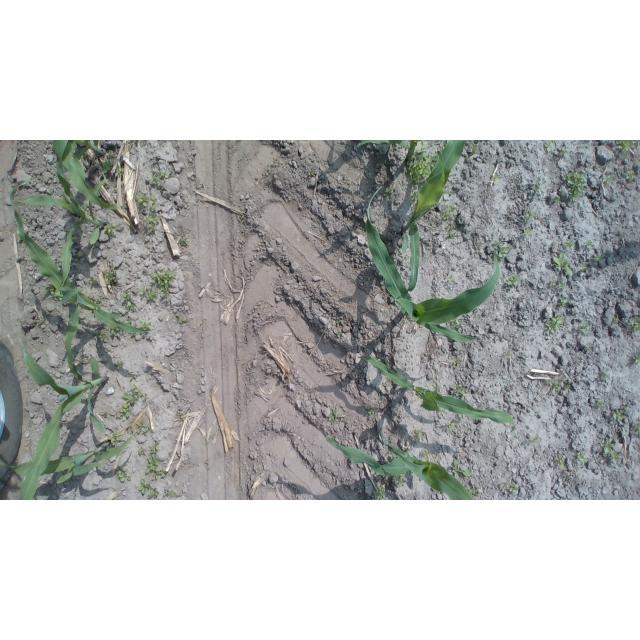Maize: (9, 178, 151, 335), (365, 186, 500, 344), (19, 305, 108, 500), (13, 156, 108, 300), (358, 355, 516, 431), (322, 433, 473, 500), (400, 140, 464, 290), (0, 434, 134, 484), (64, 140, 121, 210), (355, 140, 477, 158)
Weeds: (406, 142, 441, 185), (118, 386, 142, 421), (565, 172, 588, 201), (153, 270, 176, 297), (552, 252, 573, 276), (146, 443, 161, 474), (453, 460, 472, 480), (545, 314, 563, 335), (493, 241, 511, 261), (121, 293, 138, 312), (115, 465, 131, 484), (144, 215, 161, 232), (439, 205, 457, 220), (102, 151, 113, 174), (445, 222, 457, 240), (600, 439, 614, 454), (150, 175, 164, 190), (138, 479, 150, 496), (105, 267, 117, 284), (613, 405, 627, 419), (108, 431, 121, 445), (137, 420, 150, 434), (618, 141, 632, 154), (453, 384, 467, 397), (104, 223, 117, 237), (151, 469, 166, 481), (449, 317, 464, 329), (93, 331, 109, 342), (375, 484, 386, 500), (137, 192, 149, 206), (329, 409, 340, 424), (630, 316, 640, 332), (150, 195, 160, 211), (469, 485, 482, 497), (383, 186, 394, 200), (139, 320, 152, 331), (507, 275, 521, 285), (565, 239, 576, 251), (549, 381, 561, 392), (577, 452, 588, 464), (415, 430, 426, 442), (45, 283, 56, 295), (147, 288, 158, 300), (109, 327, 122, 337), (410, 190, 419, 204), (367, 407, 378, 418), (163, 490, 178, 498), (525, 210, 535, 222), (395, 474, 405, 486), (114, 164, 122, 179), (87, 296, 106, 302), (626, 171, 636, 182), (509, 484, 519, 495), (177, 313, 188, 323), (603, 176, 615, 185), (580, 321, 589, 333), (613, 451, 622, 463), (545, 141, 554, 152), (557, 457, 566, 468), (423, 451, 432, 462), (492, 173, 500, 185), (559, 297, 568, 307), (388, 453, 397, 463), (502, 351, 511, 361), (87, 276, 97, 285), (148, 491, 159, 499), (581, 264, 588, 276), (585, 240, 594, 249), (535, 184, 543, 194), (595, 255, 603, 265), (558, 280, 568, 288), (528, 437, 538, 445), (445, 275, 455, 283), (181, 235, 189, 245), (161, 171, 169, 181), (550, 280, 557, 291), (115, 361, 123, 370), (559, 148, 568, 156), (446, 422, 454, 431), (138, 446, 146, 454), (454, 359, 461, 368), (140, 286, 147, 295), (525, 229, 533, 236), (635, 424, 640, 435), (597, 401, 604, 408), (634, 354, 640, 362), (125, 317, 132, 323), (502, 482, 507, 490), (555, 197, 561, 203), (308, 170, 314, 176), (177, 414, 183, 419), (130, 375, 136, 380), (337, 331, 342, 337), (564, 385, 570, 390), (351, 191, 356, 197), (197, 183, 202, 189), (601, 376, 608, 380), (586, 344, 592, 348), (336, 320, 340, 326), (613, 317, 619, 321), (143, 396, 147, 400), (101, 412, 105, 416), (576, 361, 581, 364)
